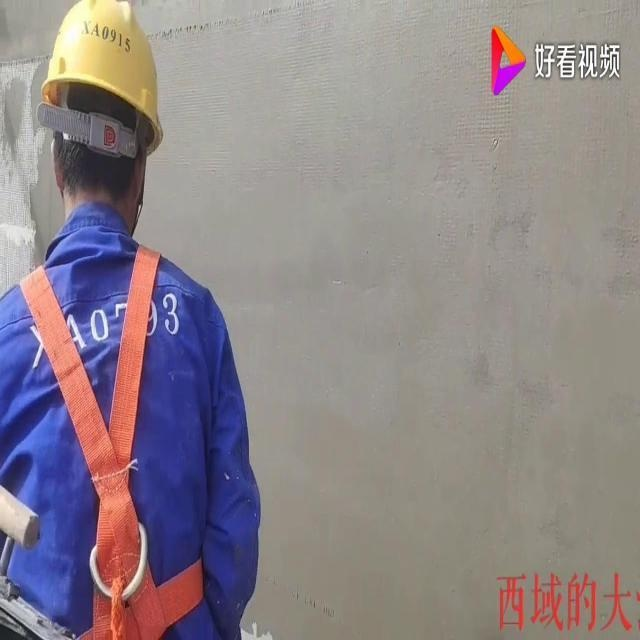Arnes_seguridad: (11, 223, 217, 638)
